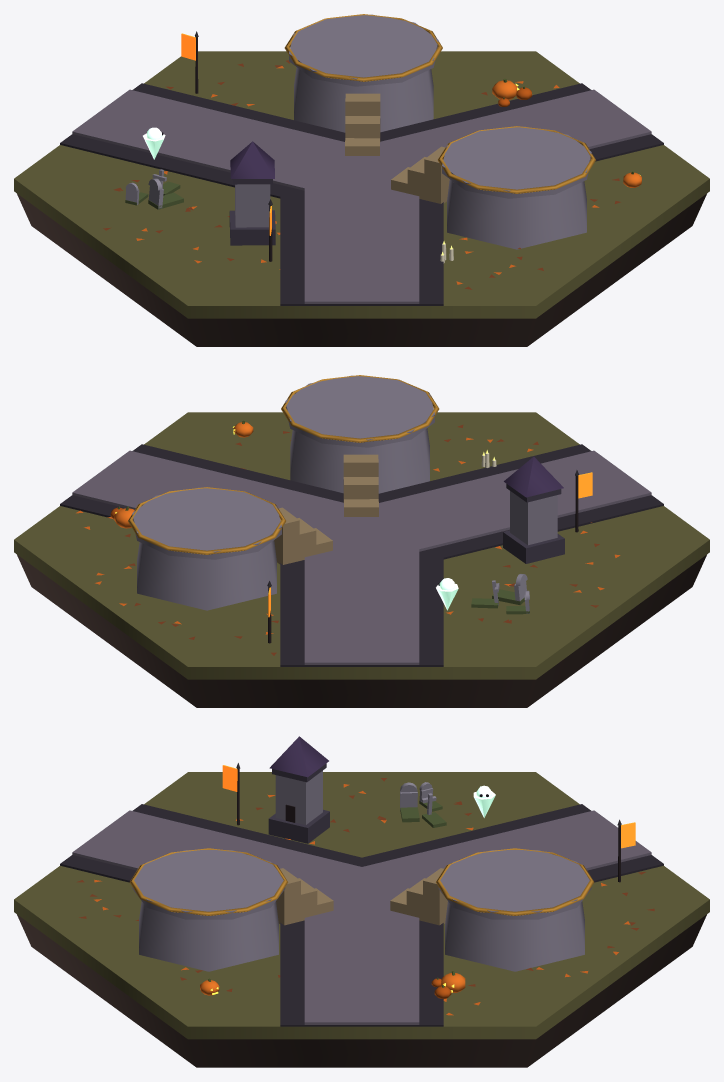
File: tile_citadel.glb
3 views of the same model, one above another, from view 1: azimuth 30°, elevation 25°; view 2: azimuth 150°, elevation 25°; view 3: azimuth 270°, elevation 25° (orthographic).
Parts seen in each view (by area): view 1: ground, road, ground_soil, tower_slot_2_plate, tower_slot_1_plate, tower_slot_2_podest, tower_slot_1_podest, tower_slot_1, tower_slot_2, deco_keep_tower_body, road_surface_hub, deco_keep_tower_roof (+3 smaller); view 2: ground, road, ground_soil, tower_slot_1_plate, tower_slot_2_plate, tower_slot_1_podest, tower_slot_2_podest, tower_slot_2, deco_keep_tower_body, tower_slot_1, road_surface_hub, deco_keep_tower_roof (+3 smaller); view 3: ground, road, ground_soil, tower_slot_1_plate, tower_slot_2_plate, tower_slot_1_podest, tower_slot_2_podest, road_surface_hub, deco_keep_tower_body, tower_slot_1, tower_slot_2, deco_keep_tower_roof (+3 smaller).
Part boxes in pixels (<box>): ground: <box>14,51,709,318</box>; road: <box>60,83,663,305</box>; ground_soil: <box>17,194,706,346</box>; tower_slot_2_plate: <box>442,126,591,198</box>; tower_slot_1_plate: <box>289,14,438,86</box>; tower_slot_2_podest: <box>447,179,586,249</box>; tower_slot_1_podest: <box>294,67,433,132</box>; tower_slot_1: <box>345,93,380,155</box>; tower_slot_2: <box>391,146,449,203</box>; deco_keep_tower_body: <box>235,184,270,227</box>; road_surface_hub: <box>305,152,399,198</box>; deco_keep_tower_roof: <box>230,141,274,178</box>; ground: <box>14,412,709,679</box>; road: <box>60,444,663,666</box>; ground_soil: <box>17,555,706,707</box>; tower_slot_1_plate: <box>132,487,281,559</box>; tower_slot_2_plate: <box>285,375,434,447</box>; tower_slot_1_podest: <box>137,540,276,610</box>; tower_slot_2_podest: <box>290,428,429,493</box>; tower_slot_2: <box>343,454,378,516</box>; deco_keep_tower_body: <box>510,491,557,545</box>; tower_slot_1: <box>274,507,332,564</box>; road_surface_hub: <box>324,513,418,559</box>; deco_keep_tower_roof: <box>504,456,563,497</box>; ground: <box>14,772,709,1039</box>; road: <box>60,804,663,1026</box>; ground_soil: <box>17,914,706,1067</box>; tower_slot_1_plate: <box>438,850,591,919</box>; tower_slot_2_plate: <box>132,850,285,919</box>; tower_slot_1_podest: <box>445,901,584,971</box>; tower_slot_2_podest: <box>139,901,278,971</box>; road_surface_hub: <box>310,871,413,919</box>; deco_keep_tower_body: <box>275,770,322,824</box>; tower_slot_1: <box>390,868,447,925</box>; tower_slot_2: <box>276,868,333,925</box>; deco_keep_tower_roof: <box>269,736,328,777</box>.
Bounding box in the file's own units: 1.73 × 0.45 × 2.
